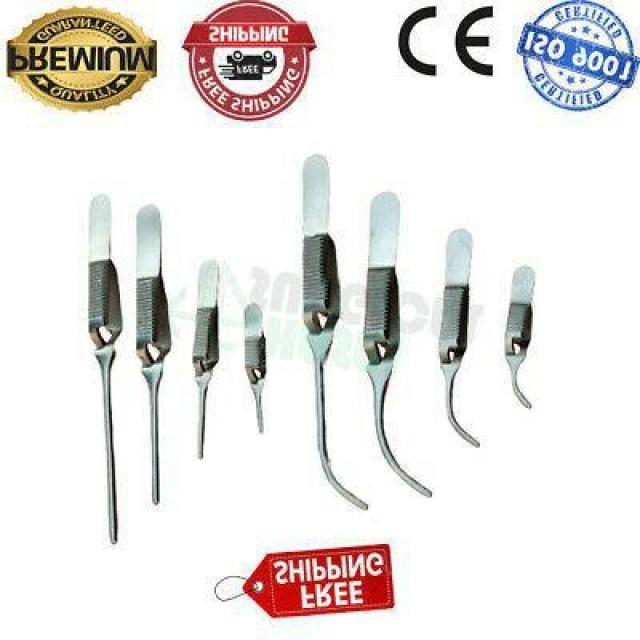Bulldog: (300, 153, 372, 512), (363, 190, 434, 500), (84, 190, 126, 548), (134, 203, 174, 507), (435, 228, 483, 450), (190, 258, 222, 462), (502, 264, 538, 411), (244, 301, 268, 437)
